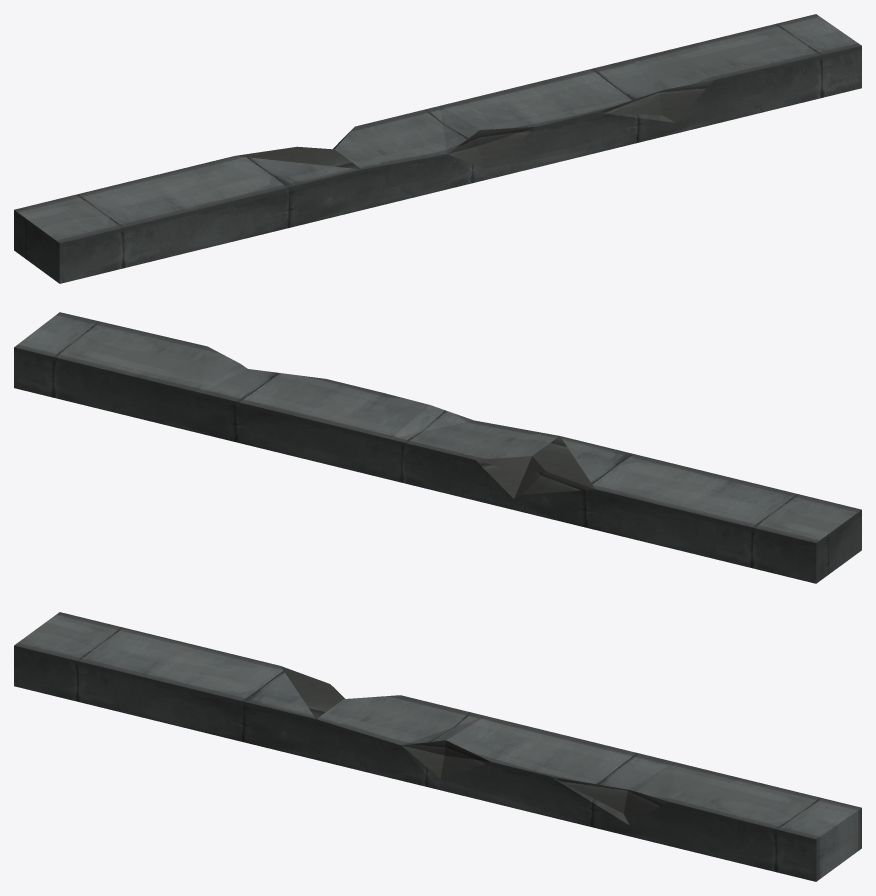
File: sewer_room_brick003.FBX
3 views of the same model, one above another, from view 1: azimuth 30°, elevation 25°; view 2: azimuth 150°, elevation 25°; view 3: azimuth 330°, elevation 25° (orthographic).
Visible parts, largest first — view 1: sewer_room_brick003; view 2: sewer_room_brick003; view 3: sewer_room_brick003.
Boxes of the visible parts, x1,y1,x2,y2 form: sewer_room_brick003: (14, 14, 861, 283); sewer_room_brick003: (14, 312, 861, 583); sewer_room_brick003: (14, 612, 861, 881).
Bounding box in the file's own units: 1177 × 64.04 × 116.
